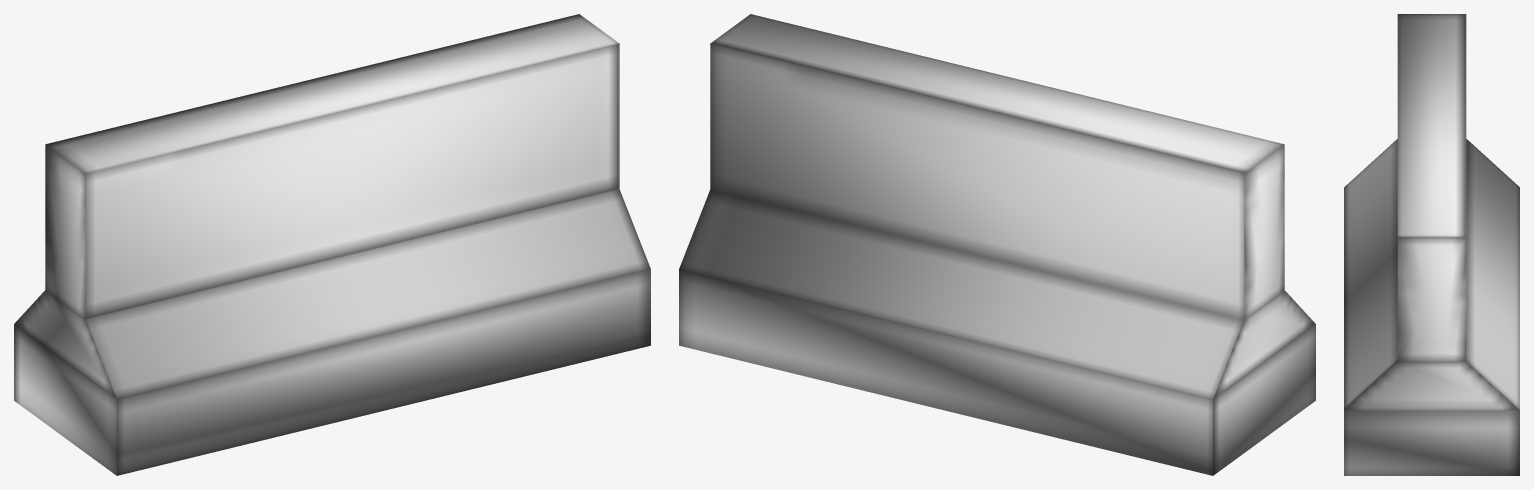
File: Concrete-Barrier-01.fbx
The picture shows the model from 3 angles, left to right: view 1: azimuth 30°, elevation 25°; view 2: azimuth 150°, elevation 25°; view 3: azimuth 270°, elevation 25°; orthographic projection. The views are drawn at different scales.
Parts seen in each view (by area): view 1: Concrete-Barrier-01; view 2: Concrete-Barrier-01; view 3: Concrete-Barrier-01.
Boxes of the visible parts, x1,y1,x2,y2 form: Concrete-Barrier-01: [14, 14, 650, 475]; Concrete-Barrier-01: [679, 14, 1315, 475]; Concrete-Barrier-01: [1344, 14, 1519, 475].
Bounding box in the file's own units: 1 × 0.5 × 0.3333.
